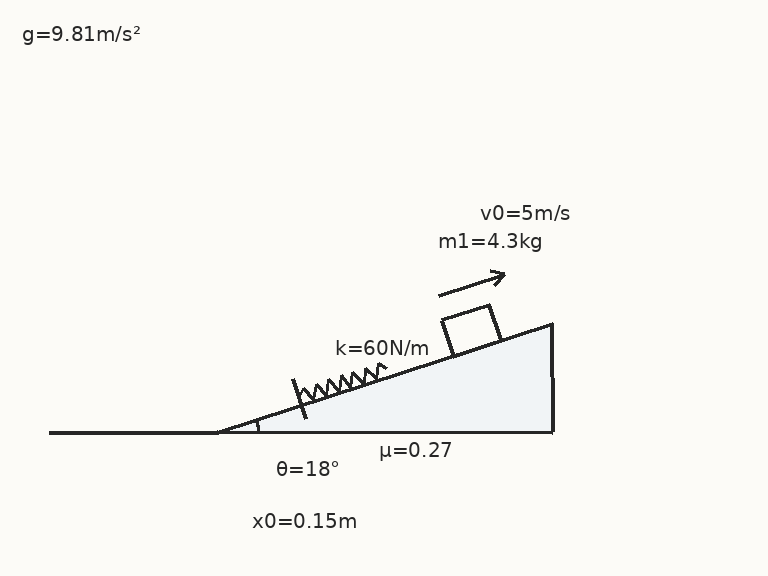block: (439, 302, 503, 358)
ramp: (216, 321, 555, 434)
spring: (297, 361, 388, 401)
